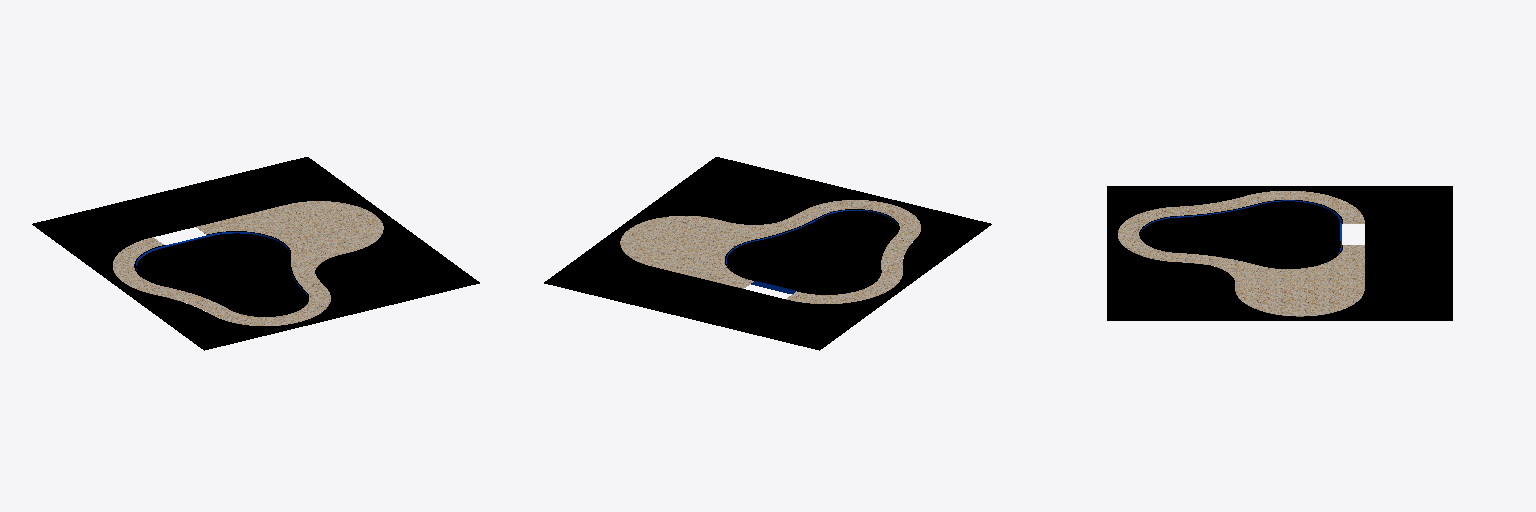
3 renders of one model, left to right at view 1: azimuth 30°, elevation 25°; view 2: azimuth 150°, elevation 25°; view 3: azimuth 270°, elevation 25°, orthographic.
Parts seen in each view (by area): view 1: Rectangle007, Shape004, Shape013; view 2: Rectangle007, Shape004, Shape013; view 3: Rectangle007, Shape004, Shape013.
Part boxes in pixels (x1,y1,x2,y2): Rectangle007: (32,157,479,350); Shape004: (113,201,383,325); Shape013: (136,233,307,316); Rectangle007: (544,157,991,350); Shape004: (620,200,920,303); Shape013: (727,211,897,293); Rectangle007: (1107,186,1452,320); Shape004: (1118,191,1364,316); Shape013: (1141,201,1340,268).
Bounding box in the file's own units: 2962 × 51 × 3210.
5 materials, 1 textured.